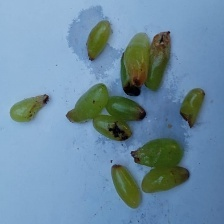grapes: (0, 43, 180, 183)
